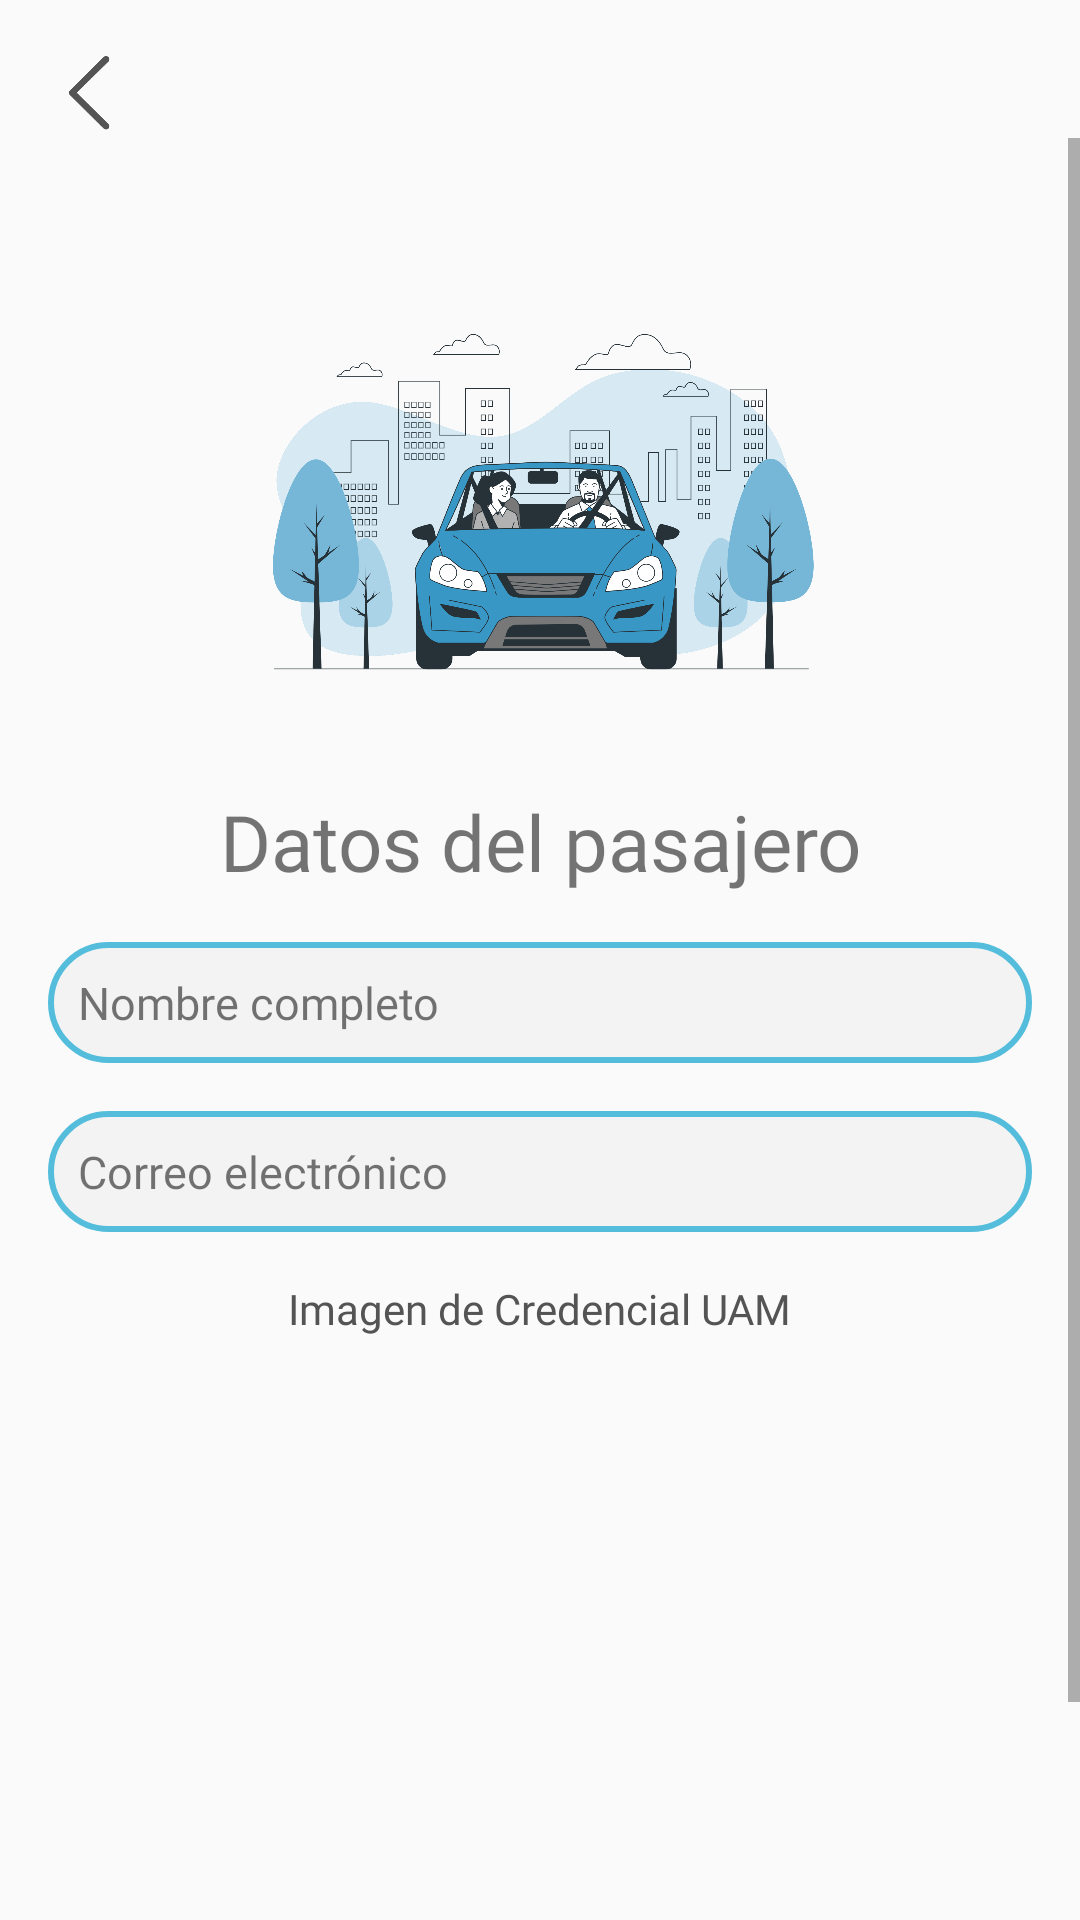

Where icons sit on this 1080x1920 app screen, as (x1, y1, x2, y2):
back arrow: (69, 56, 109, 130)
